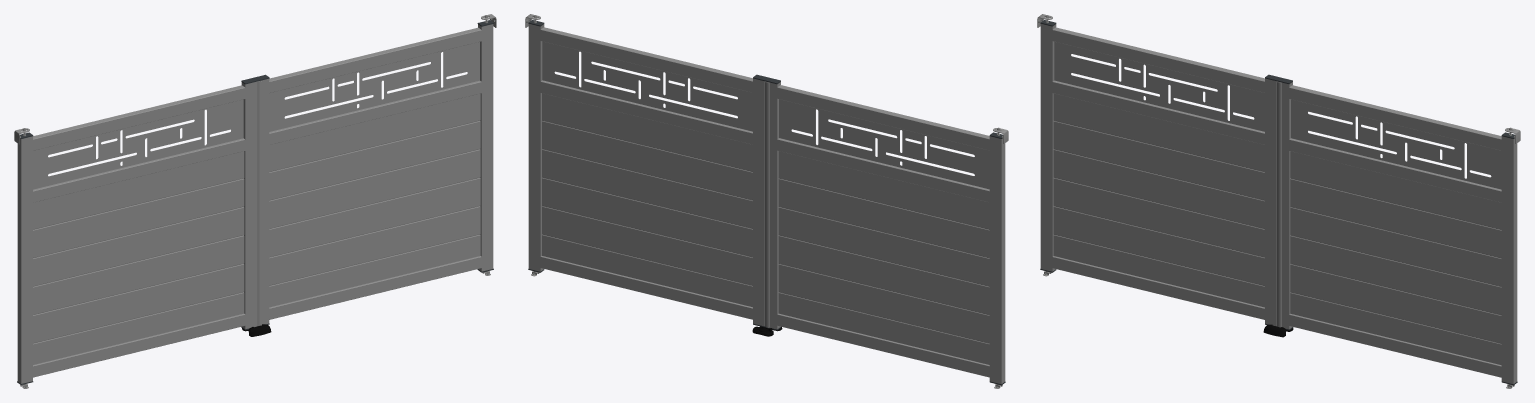
The picture shows the model from 3 angles, left to right: view 1: azimuth 30°, elevation 25°; view 2: azimuth 150°, elevation 25°; view 3: azimuth 330°, elevation 25°; orthographic projection.
Parts seen in each view (by area): view 1: paille001, paille, Shape107413001, Shape107413002, Shape107413003, Shape107412994, Shape107413000, Shape107412992, Shape107412991, Shape107412993, Shape107412997, Shape107412157 (+13 smaller); view 2: paille001, paille, Shape107412992, Shape107412994, Shape107412993, Shape107412991, Shape107413001, Shape107413002, Shape107413003, Shape107413000, Shape107412157, Shape107412997 (+13 smaller); view 3: paille001, paille, Shape107413001, Shape107413002, Shape107412993, Shape107413000, Shape107413003, Shape107412991, Shape107412992, Shape107412994, Shape107412997, Shape107412157 (+13 smaller).
Boxes of the visible parts, left/top/right/bottom form: paille001: left=269, top=42, right=479, bottom=131; paille: left=33, top=99, right=243, bottom=189; Shape107413001: left=269, top=149, right=480, bottom=228; Shape107413002: left=269, top=177, right=480, bottom=256; Shape107413003: left=269, top=206, right=480, bottom=285; Shape107412994: left=33, top=263, right=244, bottom=343; Shape107413000: left=269, top=120, right=480, bottom=200; Shape107412992: left=33, top=206, right=244, bottom=286; Shape107412991: left=33, top=178, right=244, bottom=257; Shape107412993: left=33, top=235, right=244, bottom=314; Shape107412997: left=269, top=93, right=480, bottom=171; Shape107412157: left=33, top=151, right=244, bottom=229; paille001: left=542, top=41, right=752, bottom=131; paille: left=779, top=99, right=989, bottom=189; Shape107412992: left=778, top=206, right=989, bottom=286; Shape107412994: left=778, top=263, right=989, bottom=343; Shape107412993: left=778, top=235, right=989, bottom=314; Shape107412991: left=778, top=178, right=989, bottom=257; Shape107413001: left=542, top=148, right=752, bottom=228; Shape107413002: left=542, top=177, right=752, bottom=256; Shape107413003: left=542, top=205, right=752, bottom=285; Shape107413000: left=542, top=120, right=752, bottom=199; Shape107412157: left=778, top=151, right=989, bottom=229; Shape107412997: left=542, top=93, right=752, bottom=171; paille001: left=1291, top=99, right=1501, bottom=189; paille: left=1054, top=41, right=1264, bottom=131; Shape107413001: left=1290, top=206, right=1501, bottom=286; Shape107413002: left=1290, top=235, right=1501, bottom=314; Shape107412993: left=1053, top=177, right=1264, bottom=257; Shape107413000: left=1290, top=178, right=1501, bottom=257; Shape107413003: left=1290, top=263, right=1501, bottom=343; Shape107412991: left=1053, top=120, right=1264, bottom=200; Shape107412992: left=1053, top=149, right=1264, bottom=228; Shape107412994: left=1053, top=206, right=1264, bottom=285; Shape107412997: left=1290, top=151, right=1501, bottom=229; Shape107412157: left=1053, top=93, right=1264, bottom=171.
Bounding box in the file's own units: 3260 × 1696 × 146.
7 materials, 2 textured.
